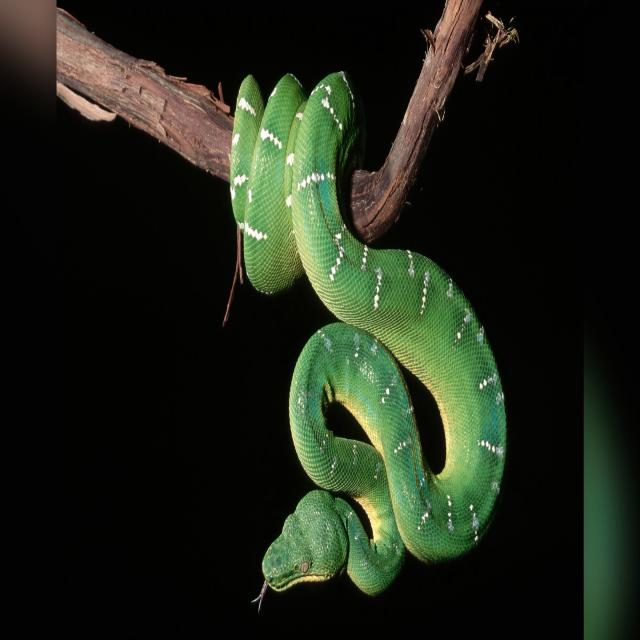snake: (230, 72, 506, 595)
